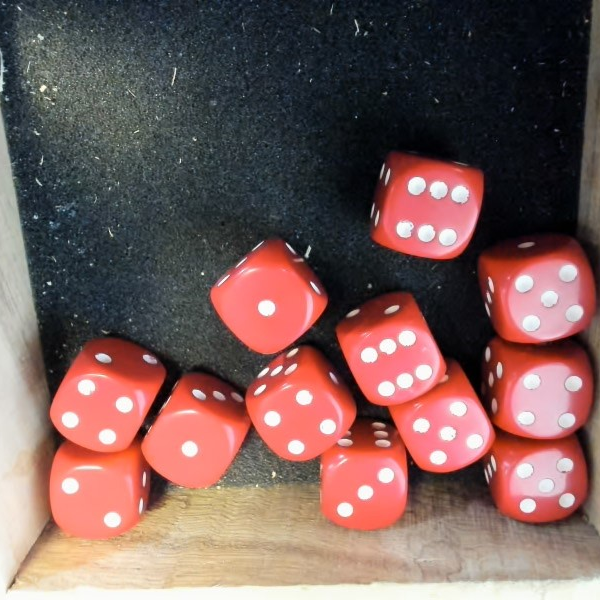red_die_pip1: (119, 351, 268, 501), (198, 225, 342, 370)
red_die_pip2: (45, 440, 150, 539)
red_die_pip3: (314, 424, 413, 532)
red_die_pip4: (228, 330, 375, 477), (39, 322, 173, 464), (481, 341, 596, 443)
red_die_pip5: (479, 232, 600, 347), (388, 368, 504, 484), (477, 430, 594, 524)
red_die_pip6: (324, 281, 454, 415), (364, 147, 491, 268)
